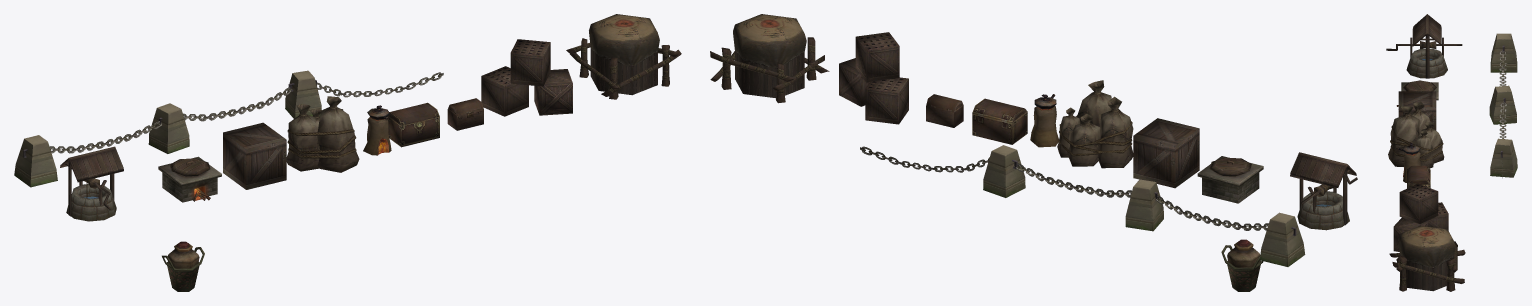
The model's file is s7_xiaoxuevol2.FBX.
3 renders of one model, left to right at view 1: azimuth 30°, elevation 25°; view 2: azimuth 150°, elevation 25°; view 3: azimuth 270°, elevation 25°, orthographic. The views are drawn at different scales.
Parts seen in each view (by area): view 1: s7_shidunzi, s7_fightpve_gu, s7_fightpve_box1, s7_fightpve_madai, s7_fightpve_xiangzi03, s7_fightpve_shuijing01, s7_fightpve_xsczaotai01, s7_fightpve_box2, s7_fightpve_guanzi, s7_fightpve_luzi, s7_fightpve_box3; view 2: s7_shidunzi, s7_fightpve_gu, s7_fightpve_box1, s7_fightpve_madai, s7_fightpve_xiangzi03, s7_fightpve_shuijing01, s7_fightpve_xsczaotai01, s7_fightpve_box2, s7_fightpve_guanzi, s7_fightpve_luzi, s7_fightpve_box3; view 3: s7_fightpve_gu, s7_shidunzi, s7_fightpve_madai, s7_fightpve_box1, s7_fightpve_shuijing01, s7_fightpve_xiangzi03, s7_fightpve_box2, s7_fightpve_luzi, s7_fightpve_xsczaotai01.
Boxes of the visible parts, x1,y1,x2,y2 form: s7_shidunzi: (14,70,443,187); s7_fightpve_gu: (566,14,681,99); s7_fightpve_box1: (481,39,572,116); s7_fightpve_madai: (286,96,359,172); s7_fightpve_xiangzi03: (223,122,286,189); s7_fightpve_shuijing01: (60,146,123,221); s7_fightpve_xsczaotai01: (158,156,221,202); s7_fightpve_box2: (387,102,439,147); s7_fightpve_guanzi: (162,241,204,291); s7_fightpve_luzi: (363,105,391,155); s7_fightpve_box3: (447,98,483,130); s7_shidunzi: (860,145,1305,266); s7_fightpve_gu: (710,14,829,103); s7_fightpve_box1: (839,32,908,124); s7_fightpve_madai: (1057,80,1133,168); s7_fightpve_xiangzi03: (1133,118,1199,188); s7_fightpve_shuijing01: (1290,152,1357,230); s7_fightpve_xsczaotai01: (1197,156,1263,203); s7_fightpve_box2: (972,98,1027,144); s7_fightpve_guanzi: (1221,239,1263,291); s7_fightpve_luzi: (1030,94,1058,147); s7_fightpve_box3: (926,94,963,127); s7_fightpve_gu: (1389,225,1465,291); s7_shidunzi: (1489,33,1517,178); s7_fightpve_madai: (1388,101,1444,168); s7_fightpve_box1: (1393,183,1448,251); s7_fightpve_shuijing01: (1386,14,1462,78); s7_fightpve_xiangzi03: (1398,91,1436,130); s7_fightpve_box2: (1407,165,1430,188); s7_fightpve_luzi: (1397,143,1420,182); s7_fightpve_xsczaotai01: (1396,80,1438,106).
Size of the model in its own units: 1633 by 413 by 386.
